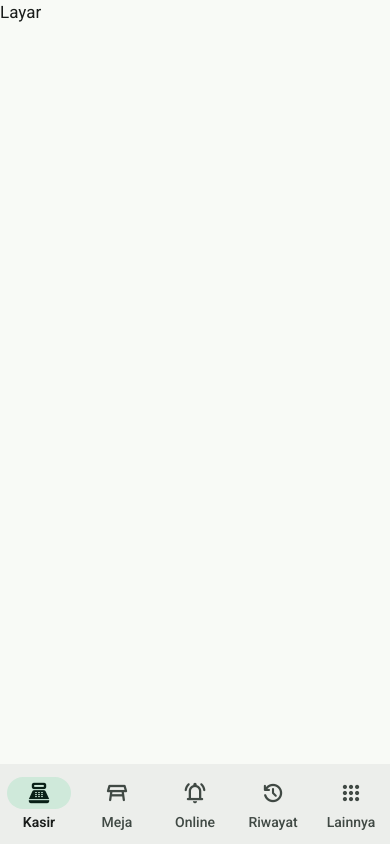
Test case: pemilih bahasa di lembar Lainnya (semua staf) › kasir memilih ខ្មែរ → UI Khmer, <html lang="km">, disimpan di perangkat & akun
Click the button "Lainnya" at (351, 804), box [312,764,389,843]
(page scrolled)
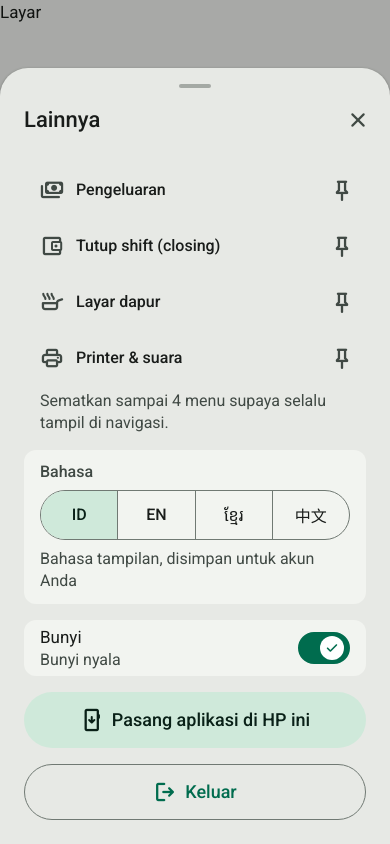
Click the radio button named "ភាសាខ្មែរ" at (233, 514), box [194,490,272,538]
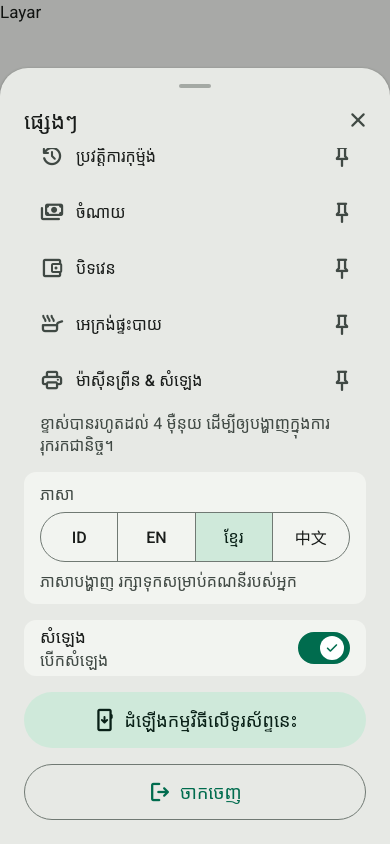
Check: the heading "ផ្សេងៗ" is shown, box [24,104,78,134]
Check: the button "ចាកចេញ" is shown, box [24,764,366,820]
Click the radio button labelled "中文" at (310, 536), box [272,512,349,560]
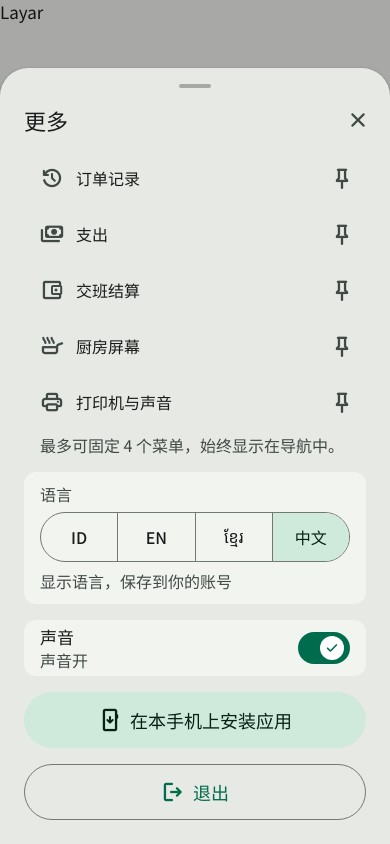
Check: the heading "更多" is shown, box [24,104,68,136]
